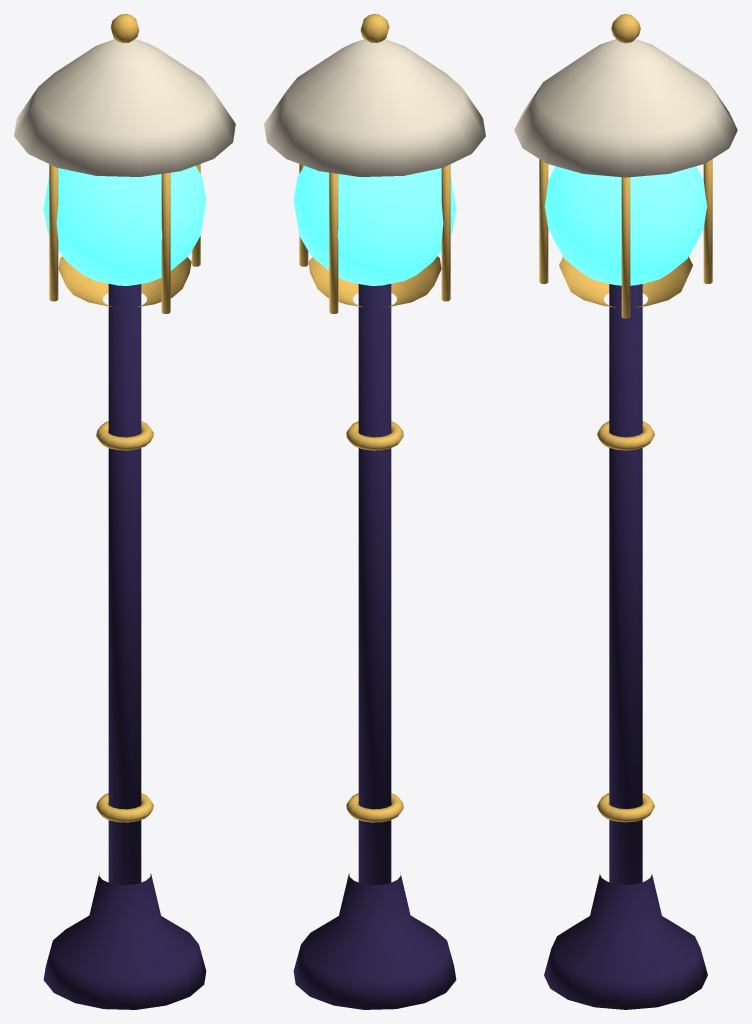
The model's file is lantern.glb.
The picture shows the model from 3 angles, left to right: view 1: azimuth 30°, elevation 25°; view 2: azimuth 150°, elevation 25°; view 3: azimuth 270°, elevation 25°; orthographic projection.
Visible parts, largest first — view 1: moon-lantern.001; view 2: moon-lantern.001; view 3: moon-lantern.001.
Boxes of the visible parts, box(x1,y1,x2,y2) form: moon-lantern.001: box(14, 14, 235, 1009); moon-lantern.001: box(264, 14, 485, 1009); moon-lantern.001: box(514, 14, 737, 1009).
Size of the model in its own units: 0.6 by 2.84 by 0.6.
